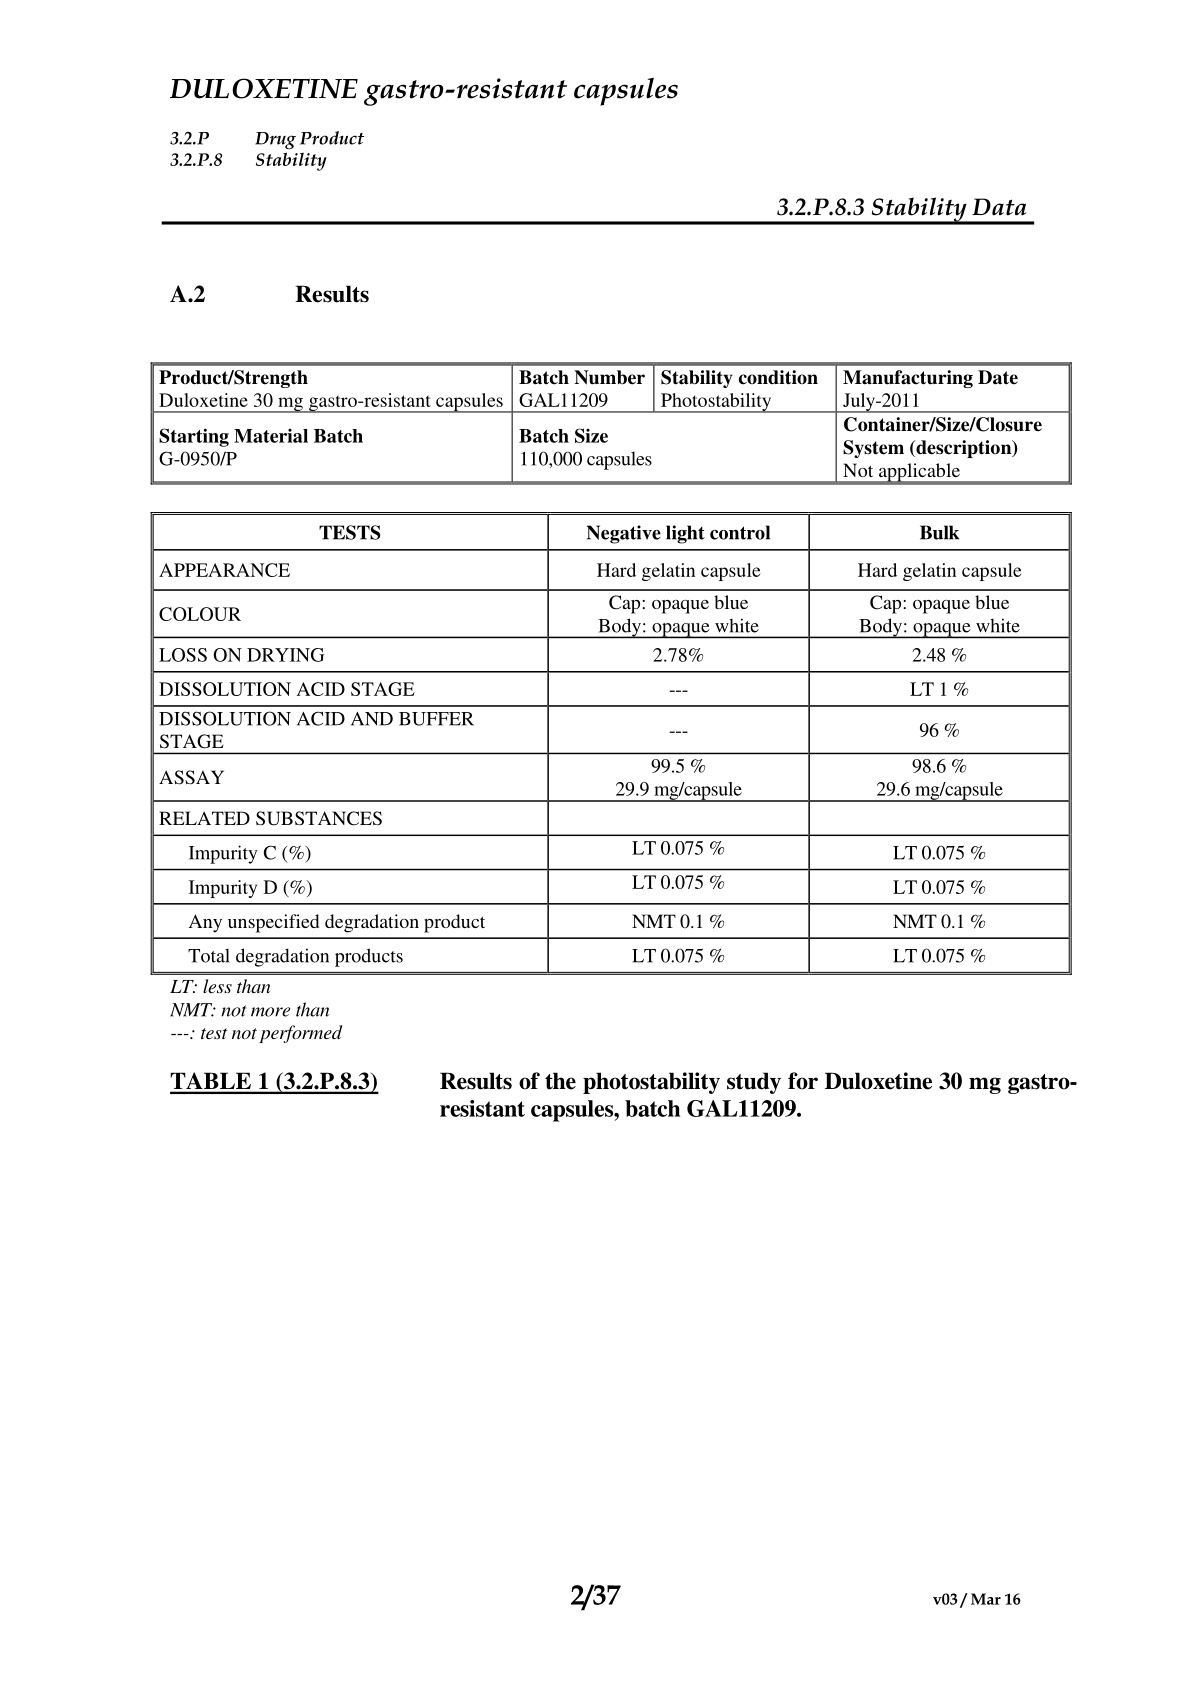full_lined: (150, 512, 1072, 977)
merged_cells: (150, 361, 1072, 486)
